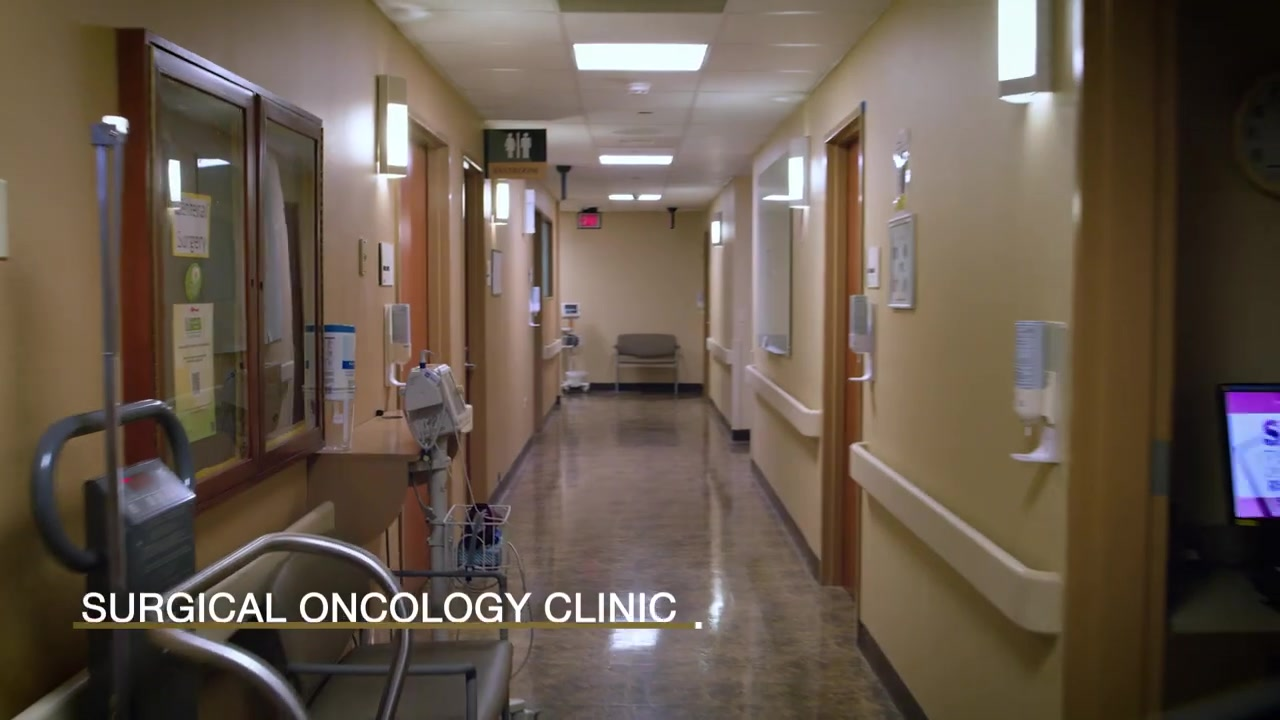bedside_monitor: (560, 300, 583, 321)
chair: (144, 531, 516, 720), (612, 333, 681, 395)
computer: (1214, 381, 1280, 531)
countertop: (1167, 556, 1280, 638), (324, 412, 467, 458)
dispenser: (1008, 318, 1070, 464), (302, 322, 358, 451), (847, 293, 875, 384), (384, 303, 411, 387), (528, 287, 541, 327), (695, 293, 705, 310)
door_handle: (462, 351, 478, 379)
hallway_assist_bar: (1, 500, 334, 720), (847, 440, 1065, 637), (743, 363, 824, 438), (705, 336, 734, 365), (542, 338, 562, 360)
iv_pole: (76, 106, 147, 720)
light_switch: (864, 242, 883, 292)
